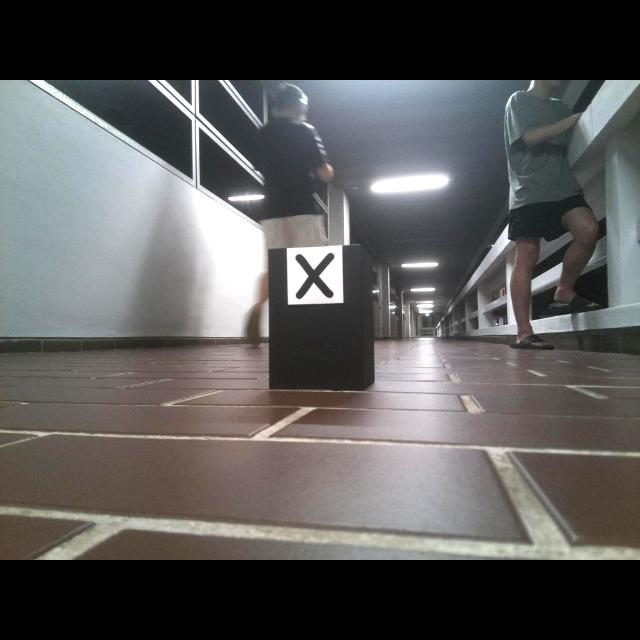X: (295, 252, 335, 300)
